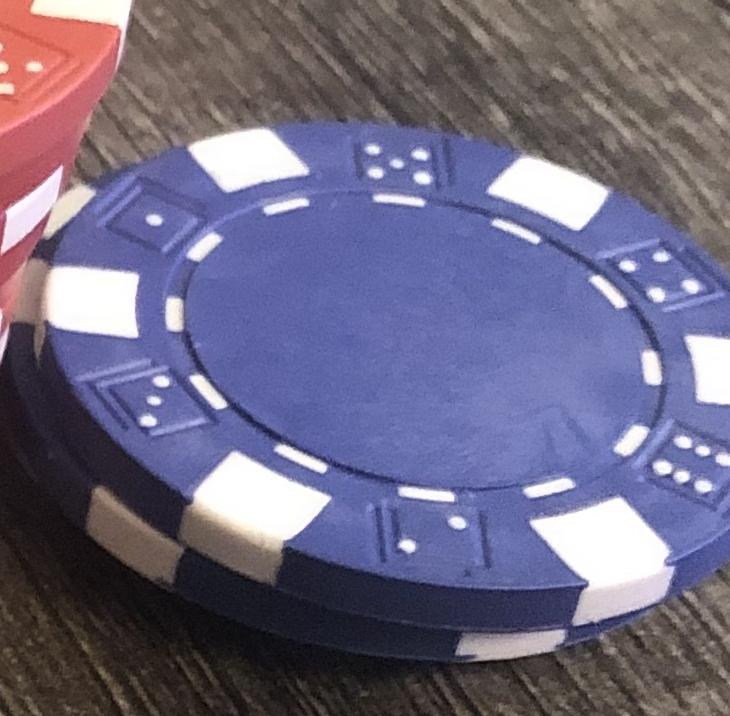Chip: (1, 1, 730, 716)
